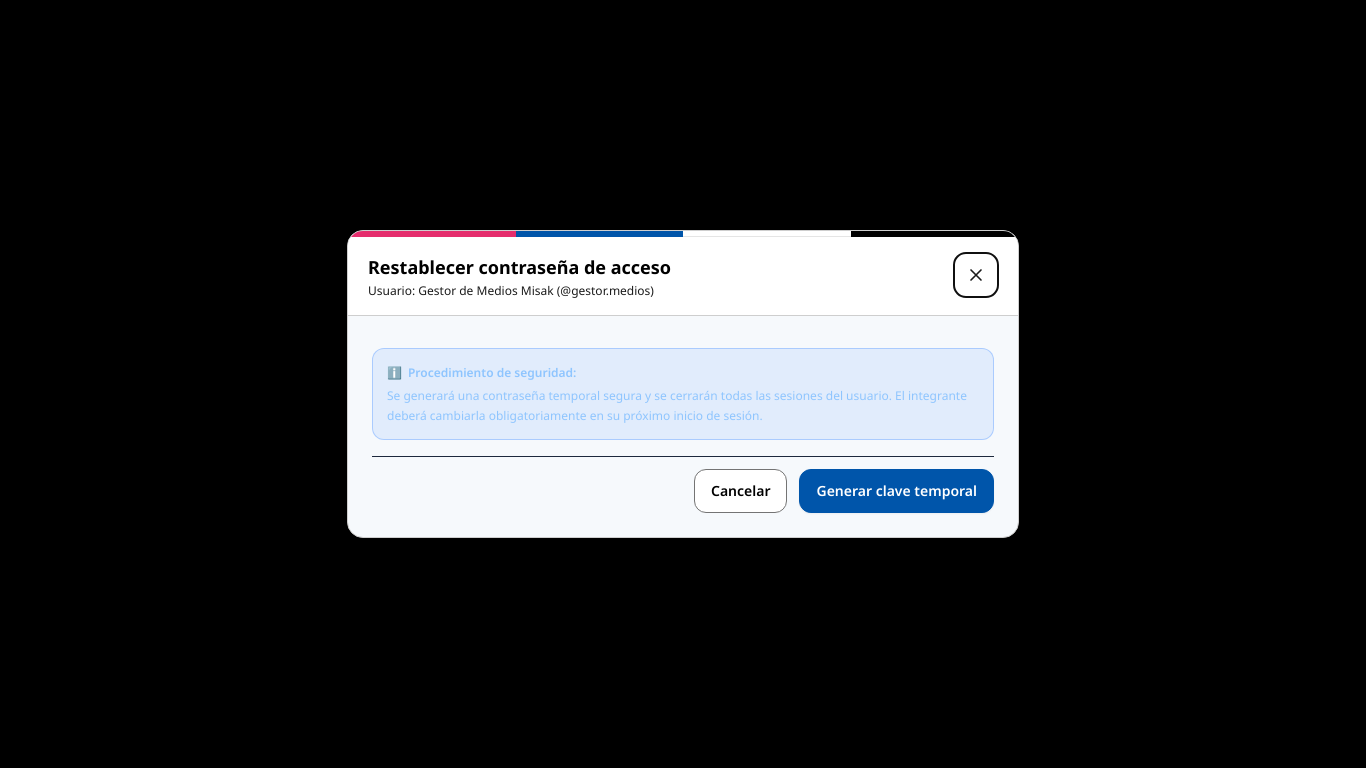
Test case: ResetPasswordPanel (R-005) › muestra advertencia de procedimiento de seguridad y botón para generar clave temporal
Expected: the heading "Restablecer contraseña de acceso" is shown, [368,253,671,281]
Expected: the text "el integrante deberá cambiarla obligatoriamente en su próximo inicio de sesión" is shown, [387,387,967,424]
Click the button "Generar clave temporal" at (897, 491), box [800,469,994,513]
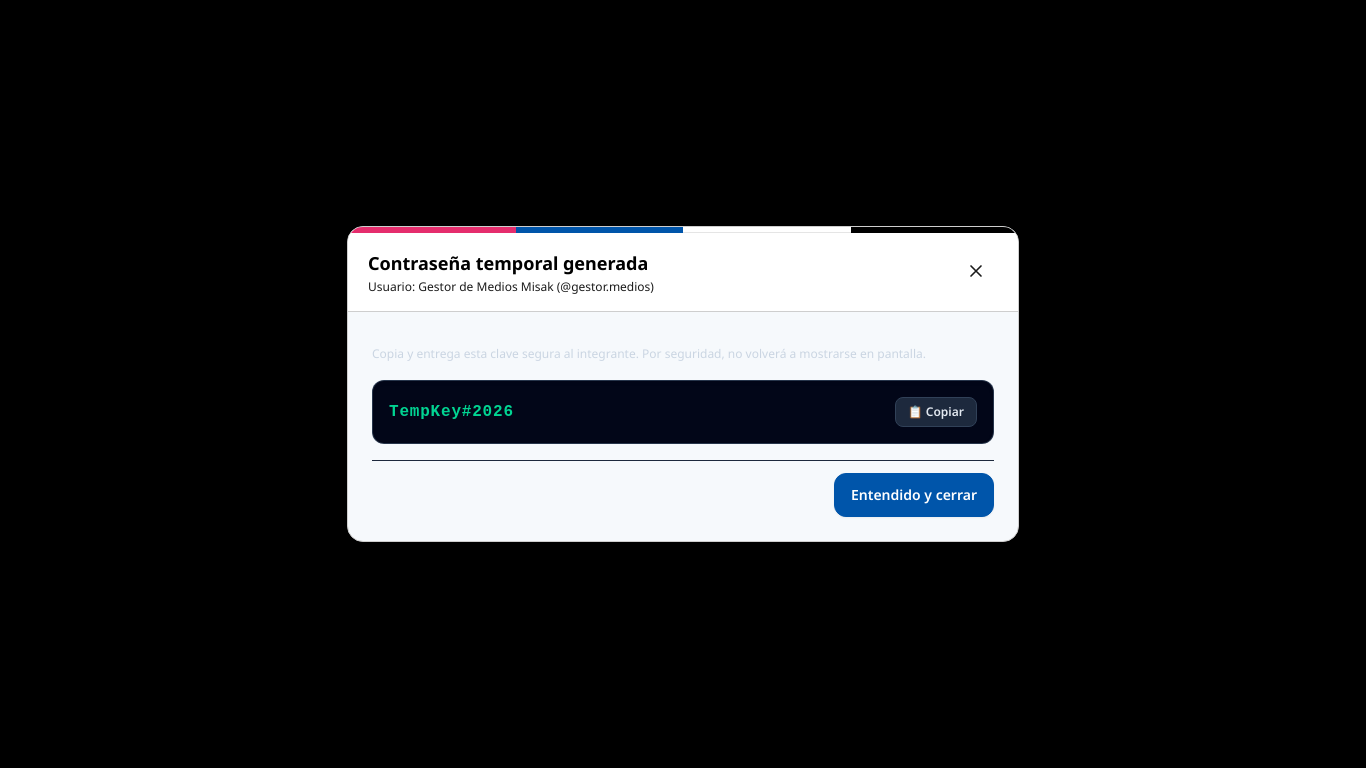
Expected: the text "TempKey#2026" is shown, [389,400,514,424]
Expected: the text "Copia y entrega esta clave segura al integrante" is shown, [372,345,926,362]
